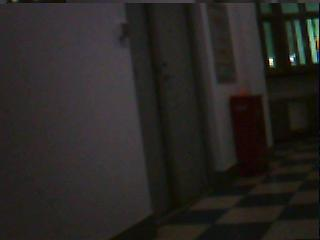oball: (238, 88, 246, 94)
